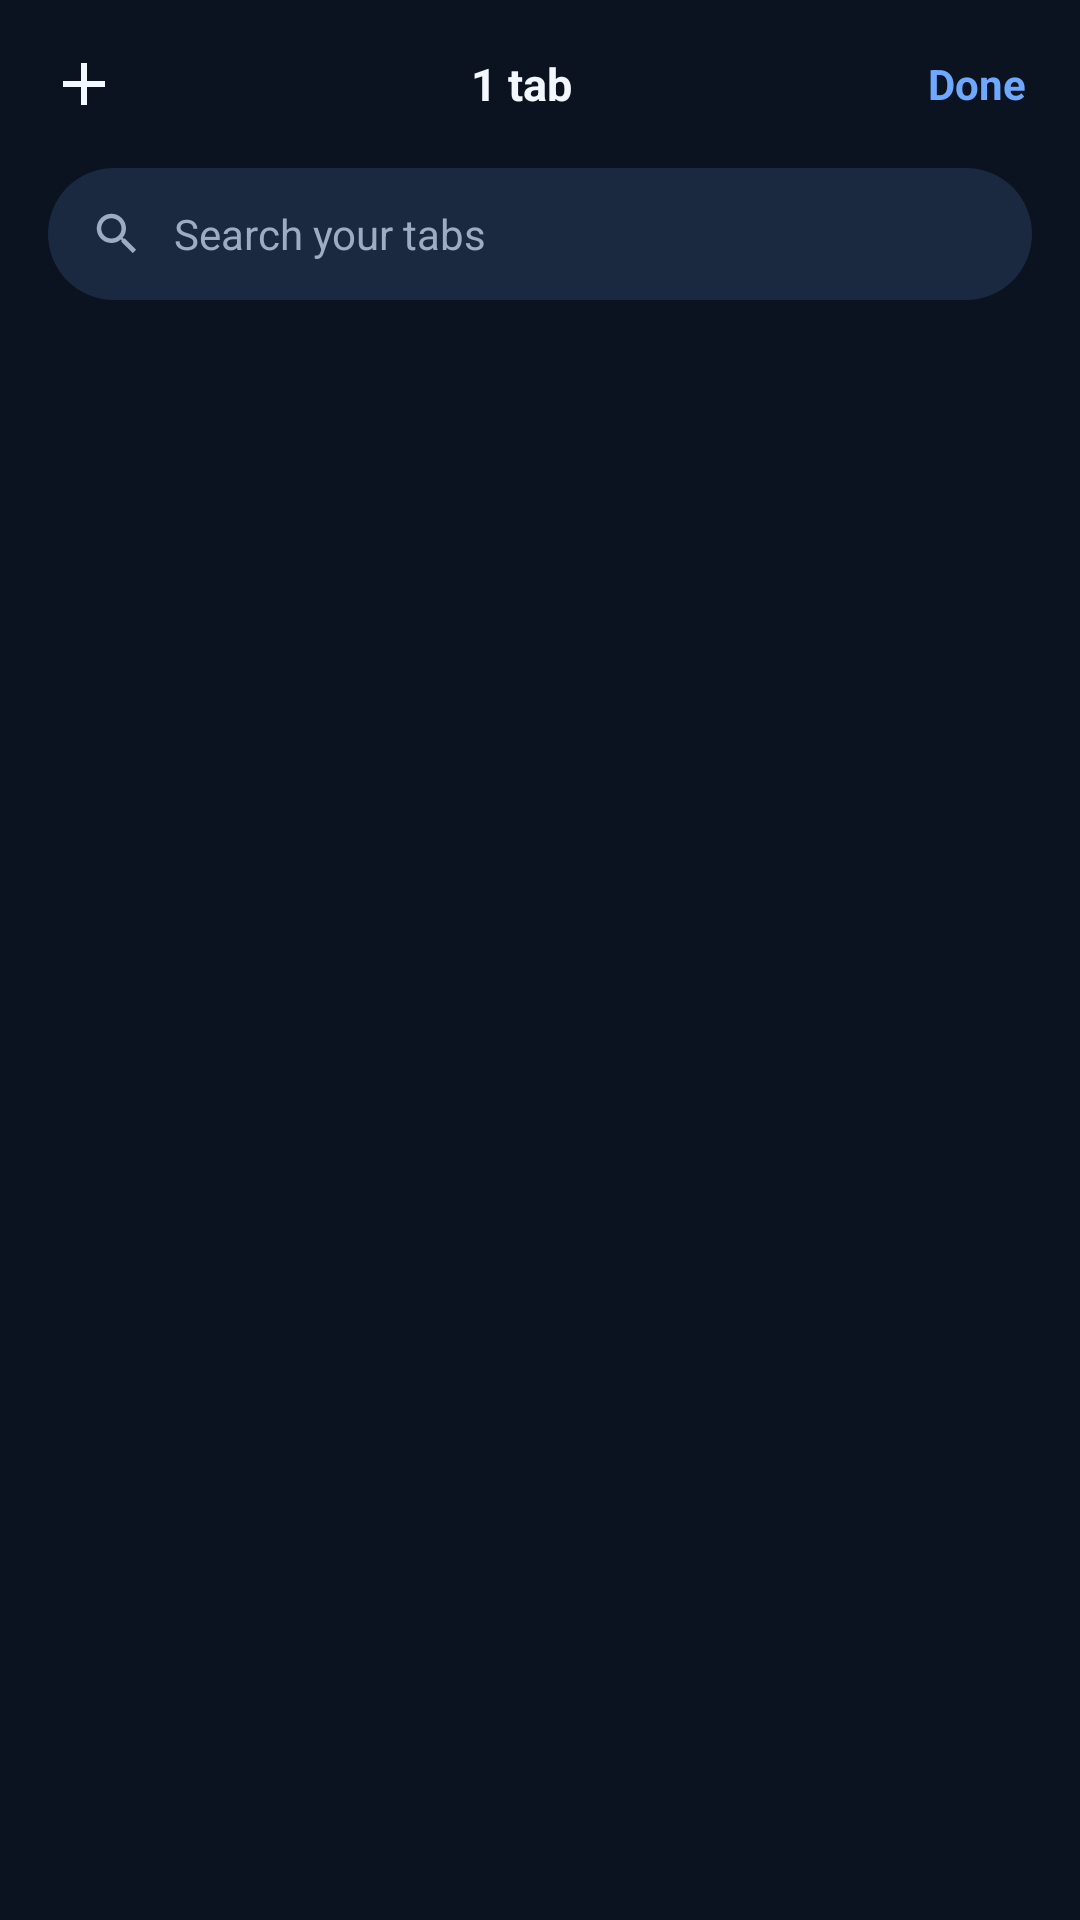

Point at icon controls on the screen. Image size 1080w x 1920h, points as (x,y).
New tab: (84,84)
